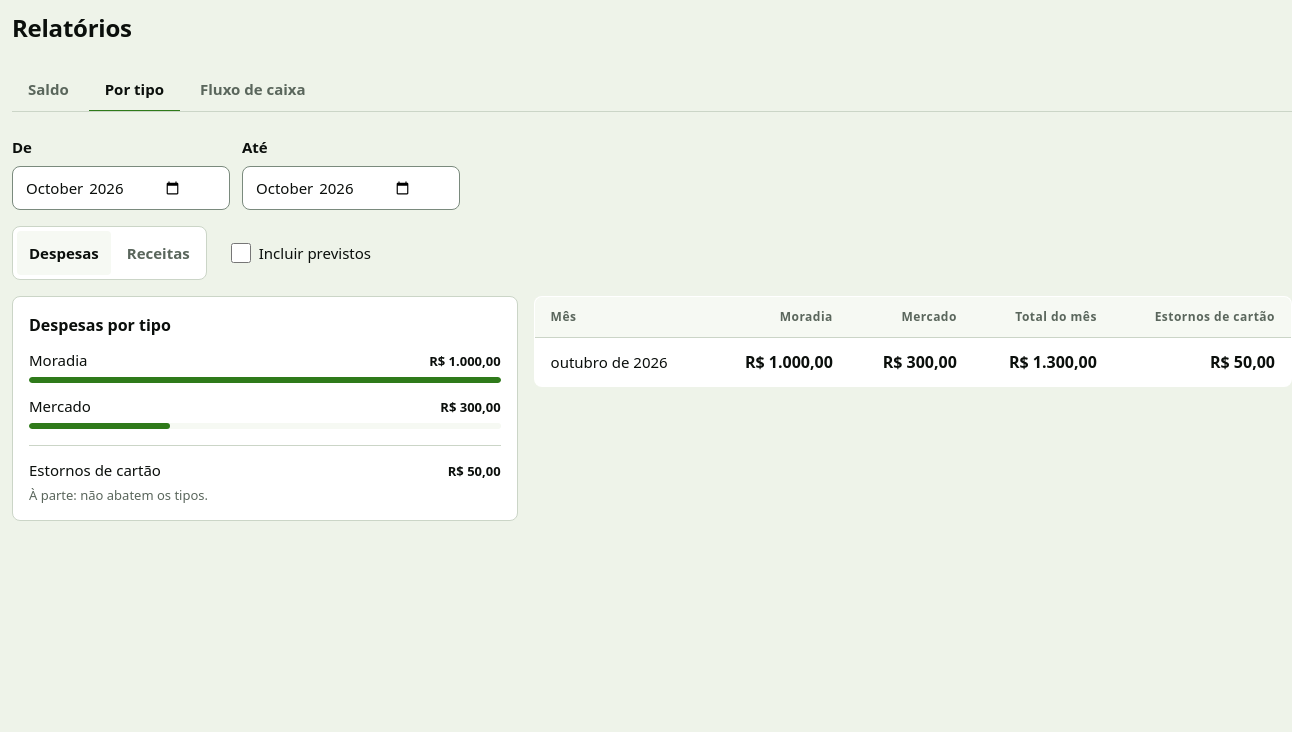
Scenario: ReportsPage (spec 0015) › switches Por tipo between expenses and earnings, with forecasts and refunds apart
Expected: the list items read "MoradiaR$ 1.000,00", "MercadoR$ 300,00", in this order, [29,349,501,383]; [29,395,501,429]
Expected: the row "outubro de 2026 R$ 1.000,00 R$ 300,00 R$ 1.300,00 R$ 50,00" is shown, [534,338,1291,386]
Step 1. Click the checkbox labelled "Incluir previstos" → (241, 253), box [231,243,251,263]
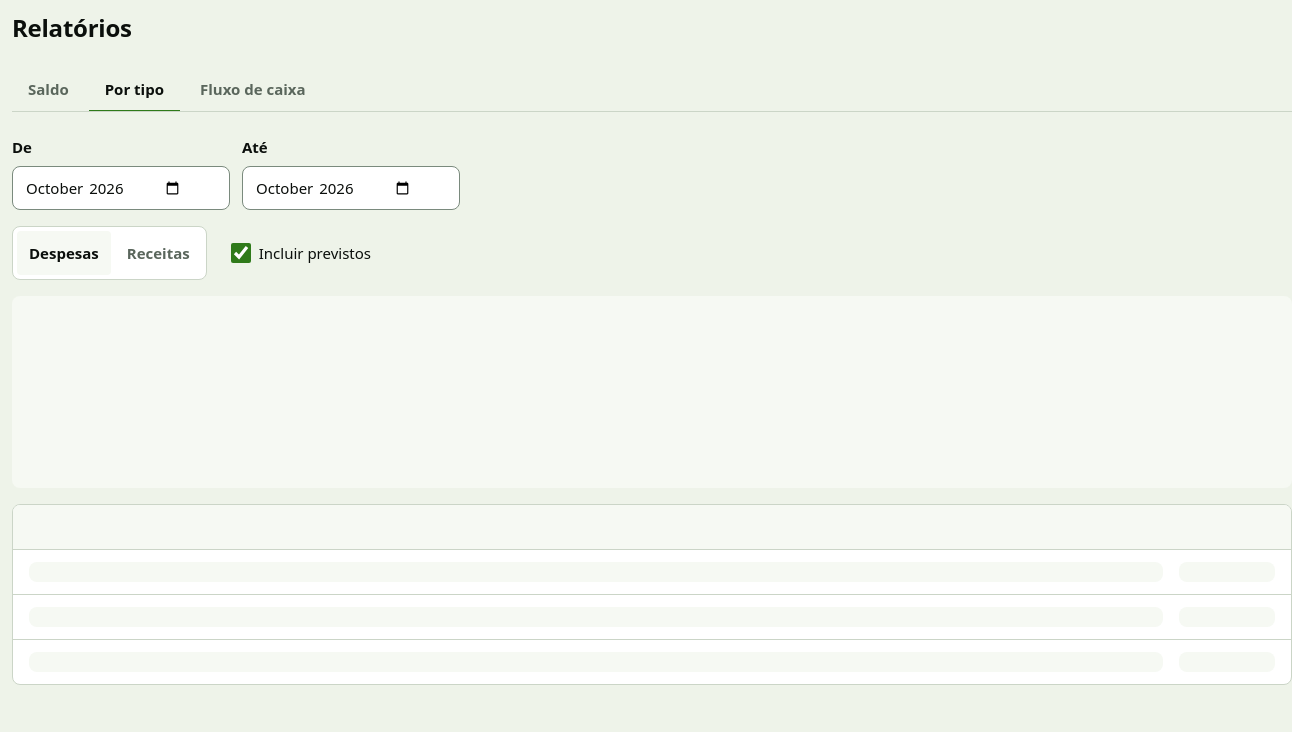
Step 2. Click the button "Receitas" → (158, 253), box [115,231,202,275]
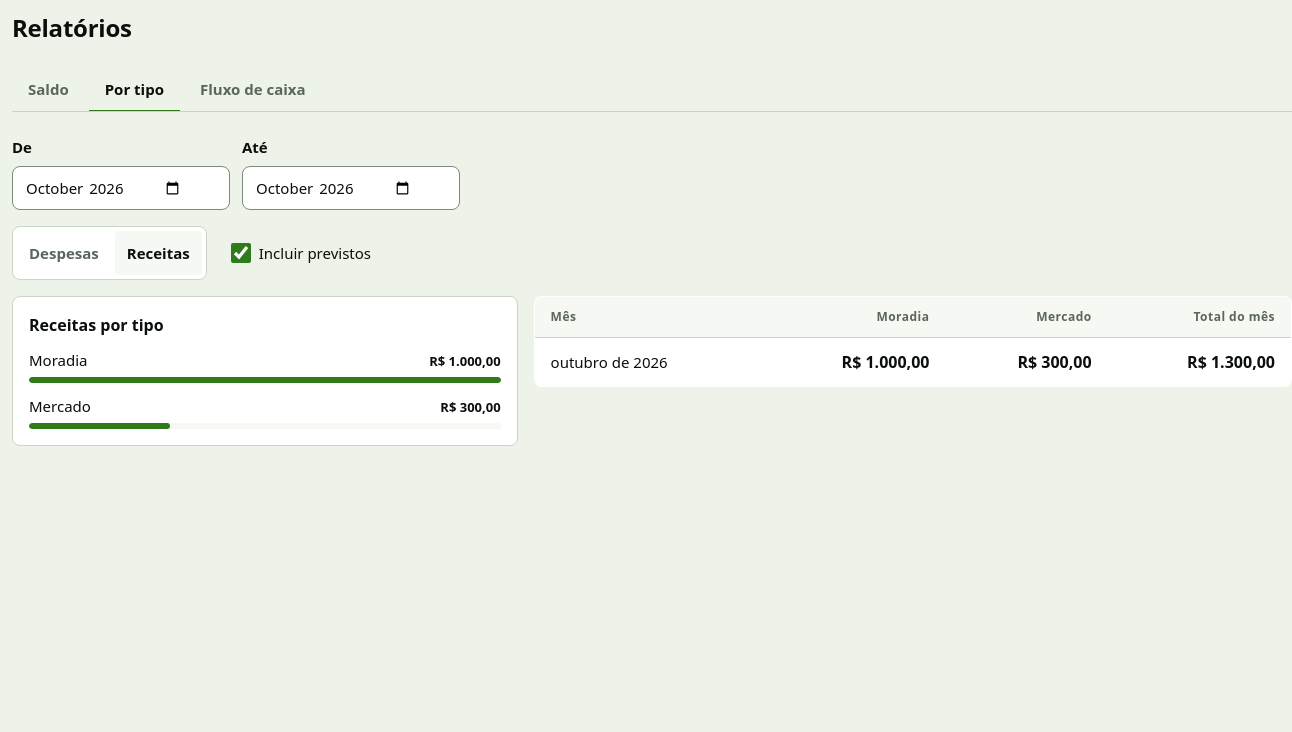
Expected: the text "Estornos de cartão" is not shown
Expected: the table named "Receitas por tipo por mês" is shown, [534,296,1291,387]
